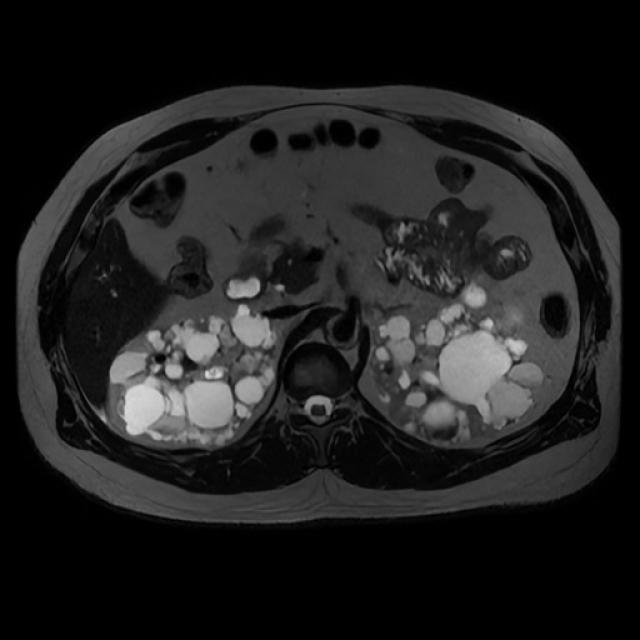sag: (107, 301, 276, 450)
sol: (369, 280, 547, 446)
